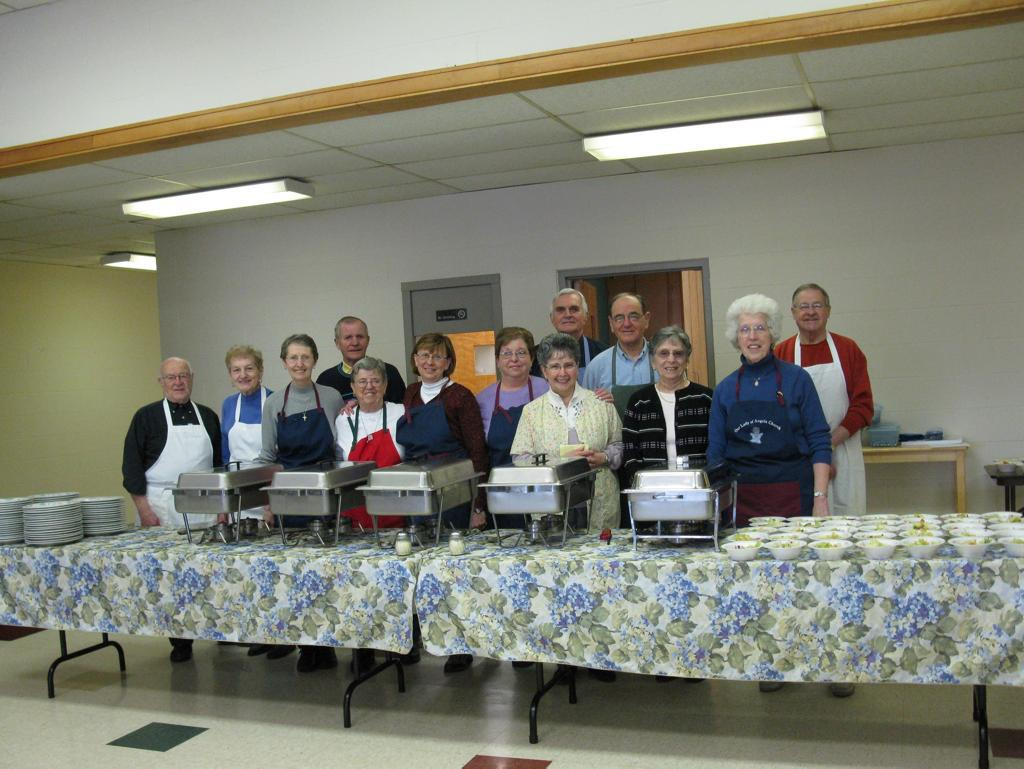face: (737, 318, 771, 359), (654, 341, 688, 379), (612, 304, 646, 342), (796, 294, 828, 331), (546, 354, 578, 389), (553, 299, 585, 332), (500, 343, 532, 376), (230, 358, 260, 390), (418, 345, 447, 378), (286, 347, 315, 380), (340, 325, 368, 359), (163, 368, 193, 399), (354, 372, 384, 402)
